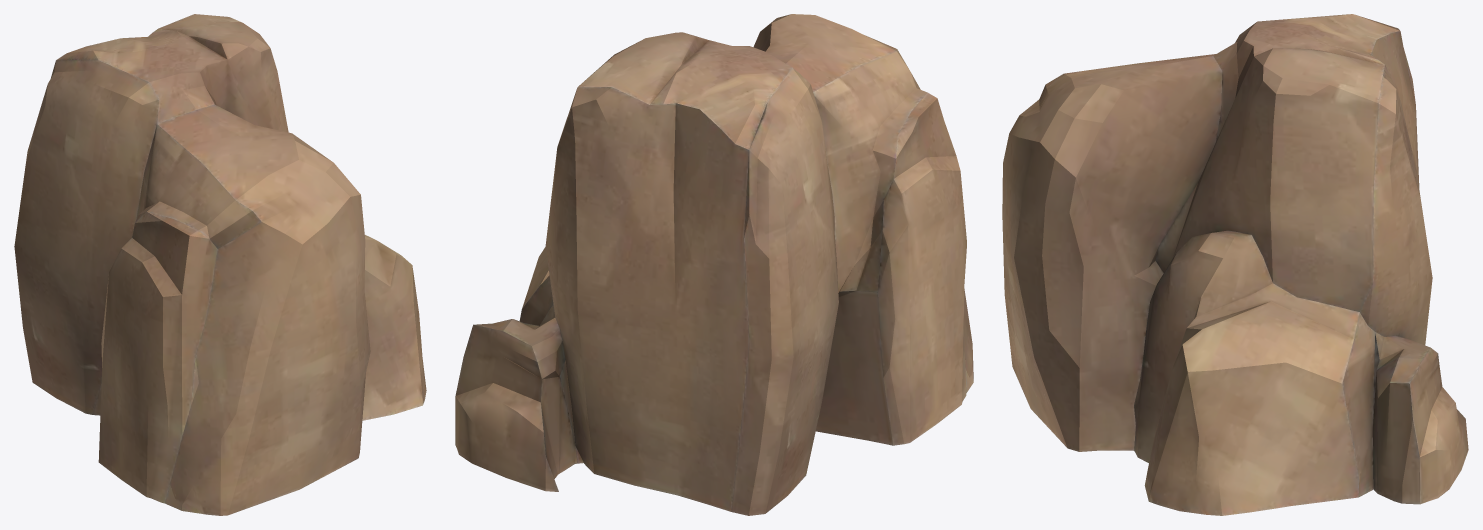
3 renders of one model, left to right at view 1: azimuth 30°, elevation 25°; view 2: azimuth 150°, elevation 25°; view 3: azimuth 270°, elevation 25°, orthographic. The views are drawn at different scales.
Visible parts, largest first — view 1: body0_model0_lod0_mesh0; view 2: body0_model0_lod0_mesh0; view 3: body0_model0_lod0_mesh0.
Boxes of the visible parts, x1,y1,x2,y2 form: body0_model0_lod0_mesh0: [14, 14, 426, 515]; body0_model0_lod0_mesh0: [455, 14, 973, 515]; body0_model0_lod0_mesh0: [1002, 14, 1468, 515].
Size of the model in its own units: 215 by 221 by 247.
1 material, 1 textured.
